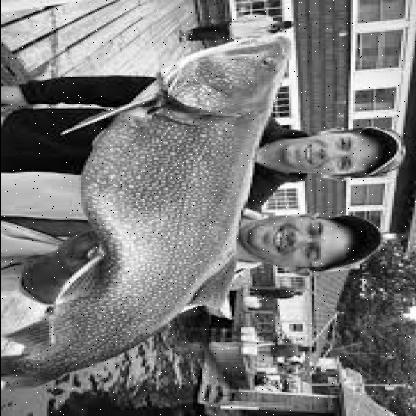fish: (2, 30, 293, 392)
